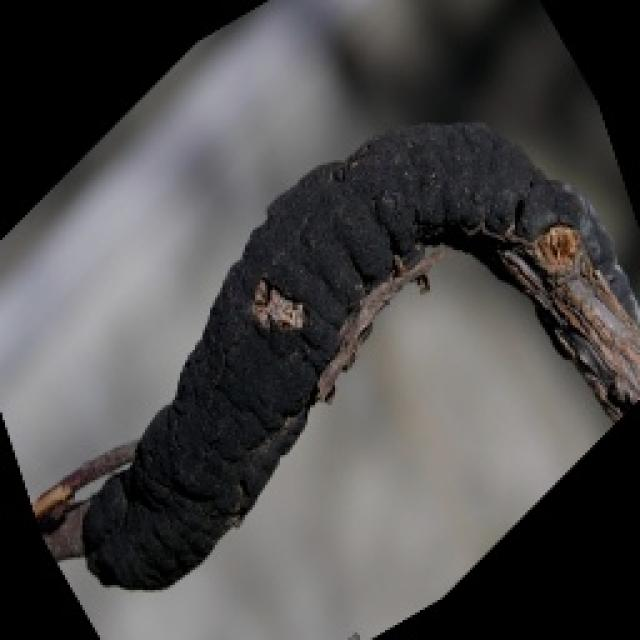Black_knot: (62, 115, 638, 590)
